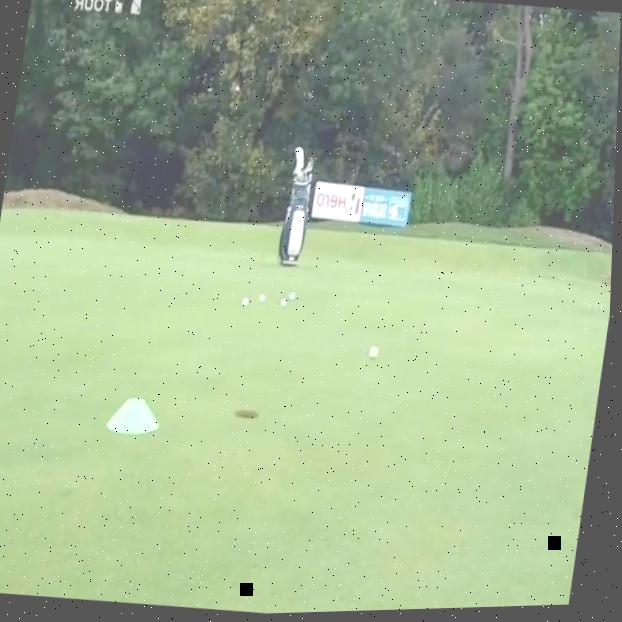GolfBall: (365, 342, 388, 365), (257, 288, 273, 307), (278, 295, 294, 312), (242, 293, 254, 312), (288, 290, 301, 303)
